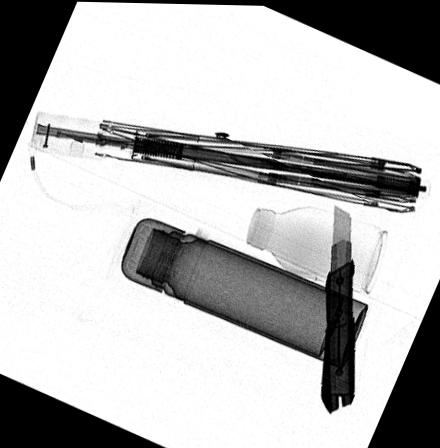Knife: (320, 201, 355, 413)
